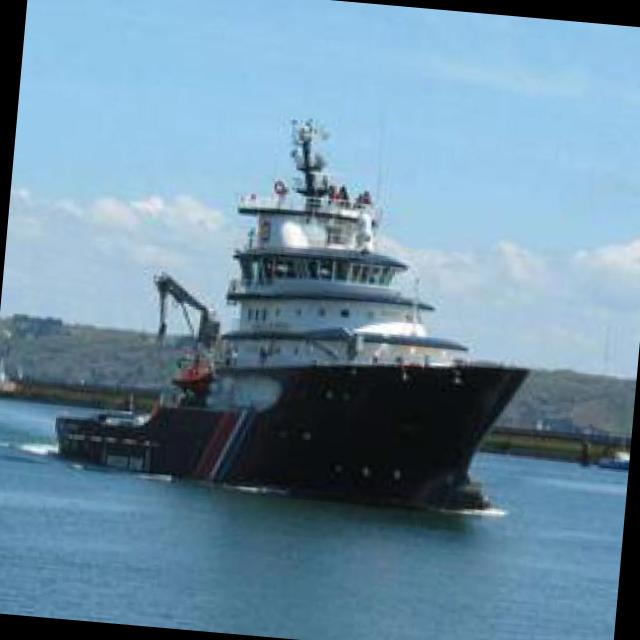boat: (16, 137, 550, 540)
